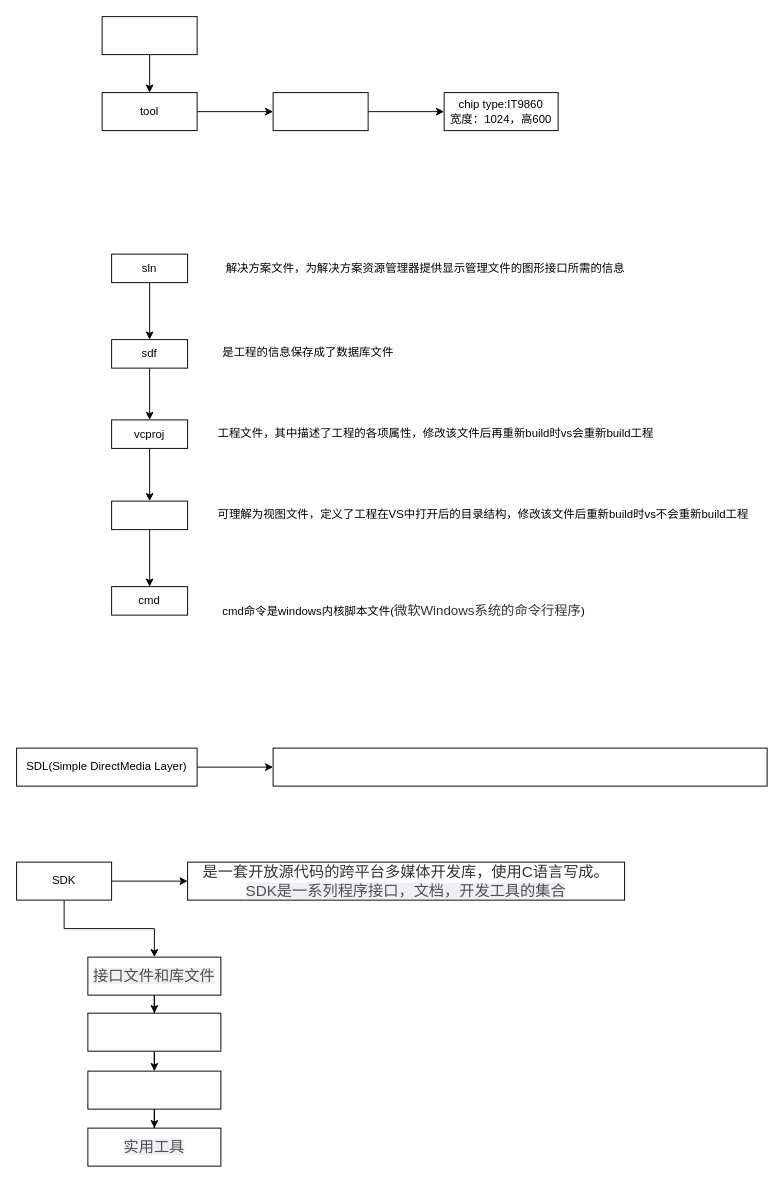
This 784x1183 diagram has some shape labels left out. The centre of each missing label's shape, as x and y in pixels:
ite: (149,35)
LCD.exe: (320,111)
SDL提供了数种控制图像、声音、输出入的函数，让开发者只要用相同或是相似的代码就可以开发出跨多个平台（Linux、Windows、Mac OS X等）的应用软件: (519,766)
vcproj.filter: (149,515)
帮助文档: (154,1031)
开发示例: (154,1089)
